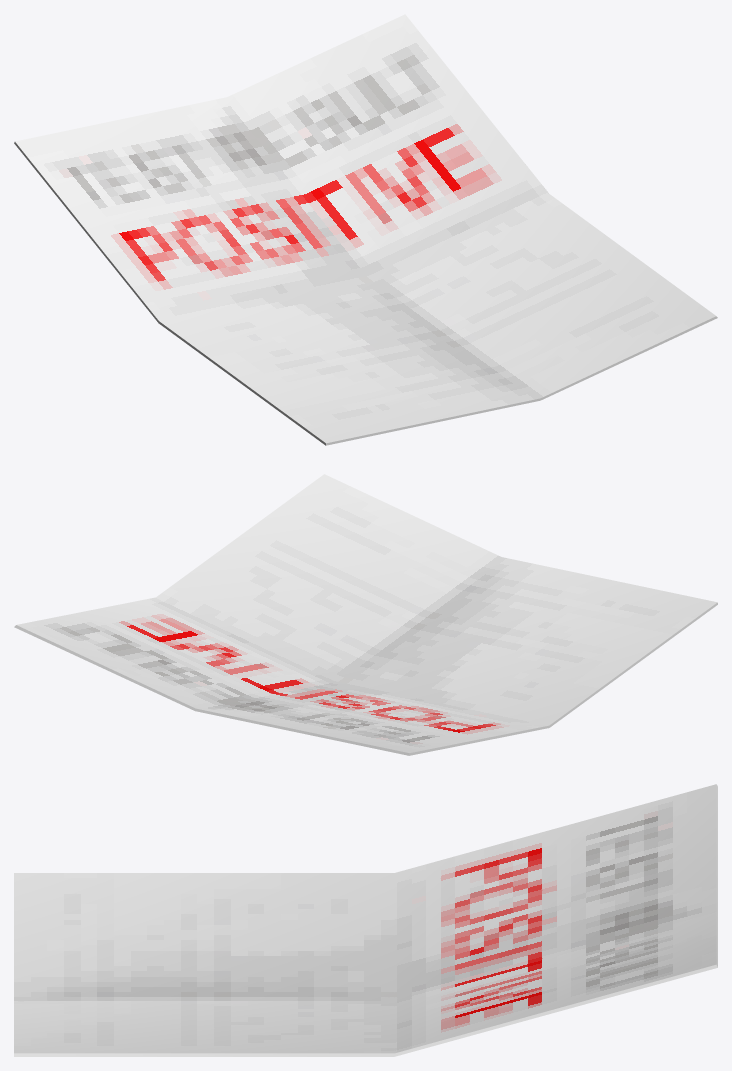
Rendered from Item_LabTestResult.fbx.
3 renders of one model, top to bottom at view 1: azimuth 30°, elevation 25°; view 2: azimuth 150°, elevation 25°; view 3: azimuth 270°, elevation 25°, orthographic. The views are drawn at different scales.
Visible parts, largest first — view 1: SheetOfPaper; view 2: SheetOfPaper; view 3: SheetOfPaper.
Boxes of the visible parts, x1,y1,x2,y2 form: SheetOfPaper: (14,14,717,445); SheetOfPaper: (14,474,717,755); SheetOfPaper: (14,784,717,1056).
Bounding box in the file's own units: 0.2359 × 0.0676 × 0.3199.
